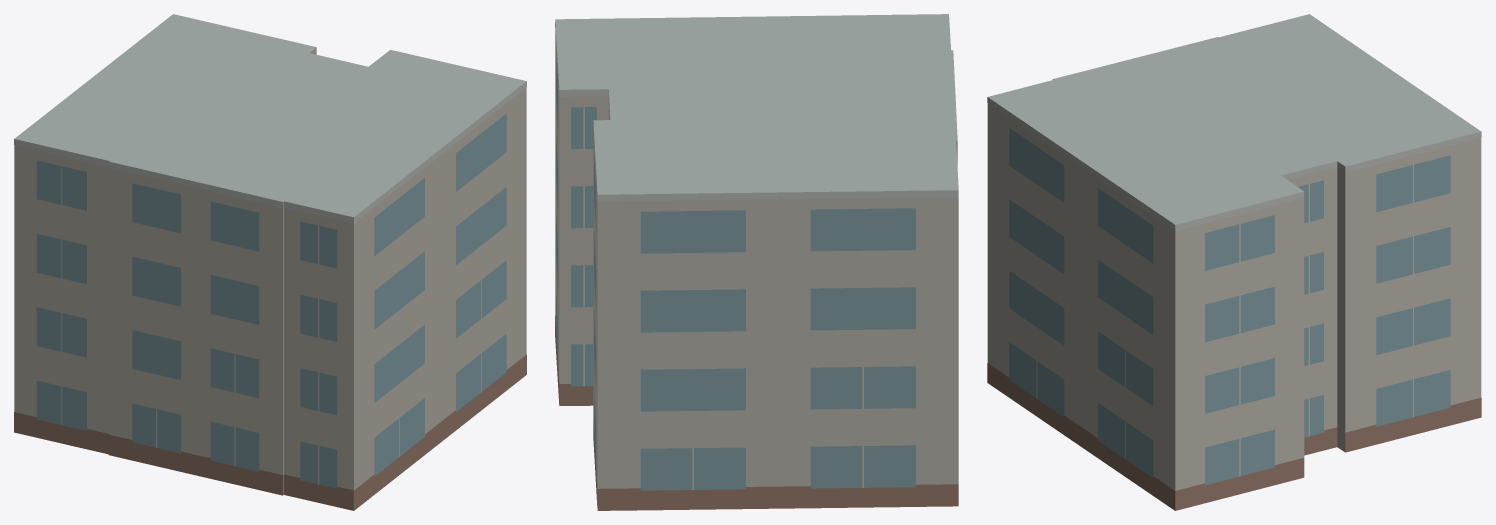
Rendered from survey-upis-32619269.glb.
3 renders of one model, left to right at view 1: azimuth 30°, elevation 25°; view 2: azimuth 150°, elevation 25°; view 3: azimuth 270°, elevation 25°, orthographic. The views are drawn at different scales.
Visible parts, largest first — view 1: survey-upis-32619269.tmp; view 2: survey-upis-32619269.tmp; view 3: survey-upis-32619269.tmp.
Part boxes in pixels (x1=…): survey-upis-32619269.tmp: x1=14, y1=14, x2=526, y2=510; survey-upis-32619269.tmp: x1=555, y1=14, x2=958, y2=510; survey-upis-32619269.tmp: x1=987, y1=14, x2=1481, y2=510.
Bounding box in the file's own units: 18.2 × 11.5 × 18.01.
